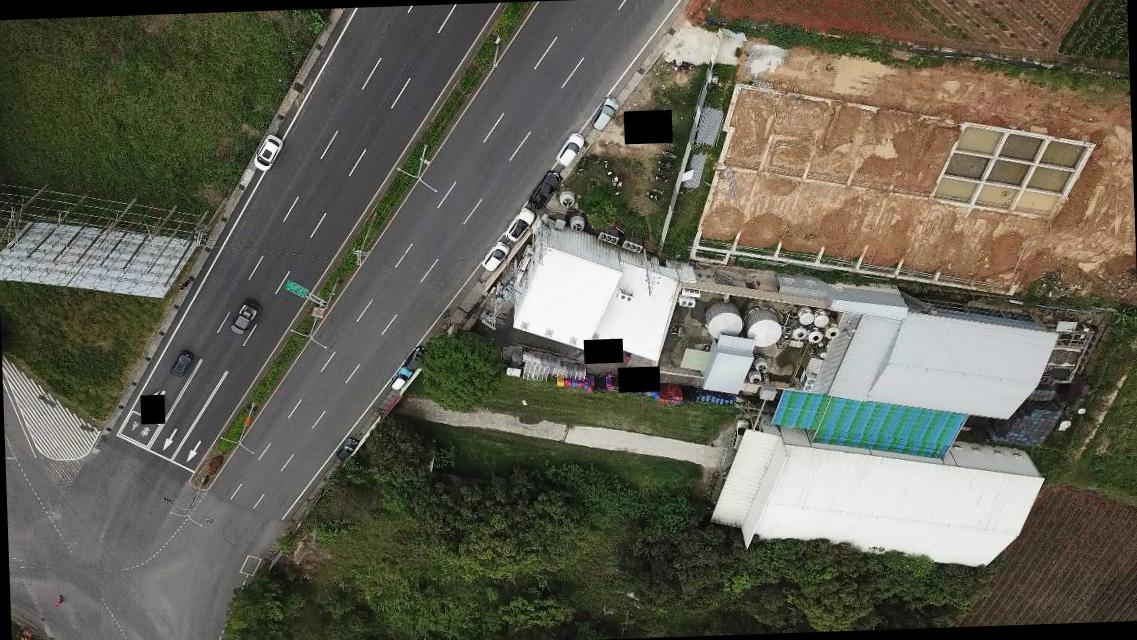vehicle: (528, 169, 563, 210), (250, 133, 284, 174), (556, 132, 588, 166), (593, 94, 620, 133), (480, 239, 509, 273), (229, 303, 258, 336), (506, 208, 533, 241), (333, 434, 359, 462), (169, 350, 195, 378), (730, 418, 750, 450), (390, 364, 412, 392), (407, 345, 429, 373)
